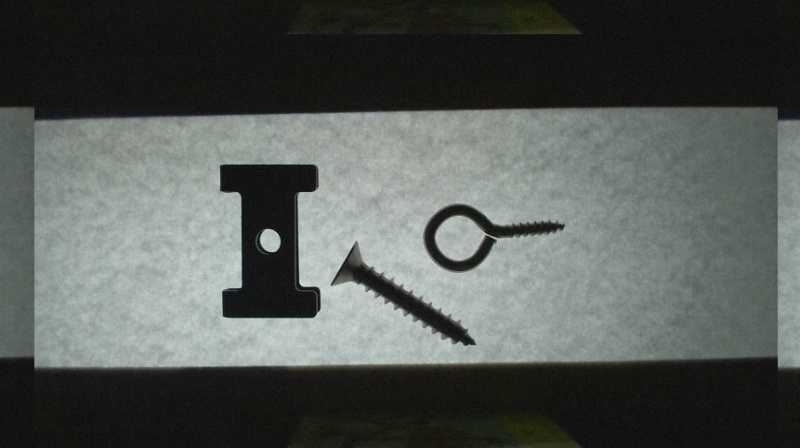O001: (422, 201, 569, 277)
O002: (214, 159, 322, 321)
S001: (329, 237, 478, 348)
